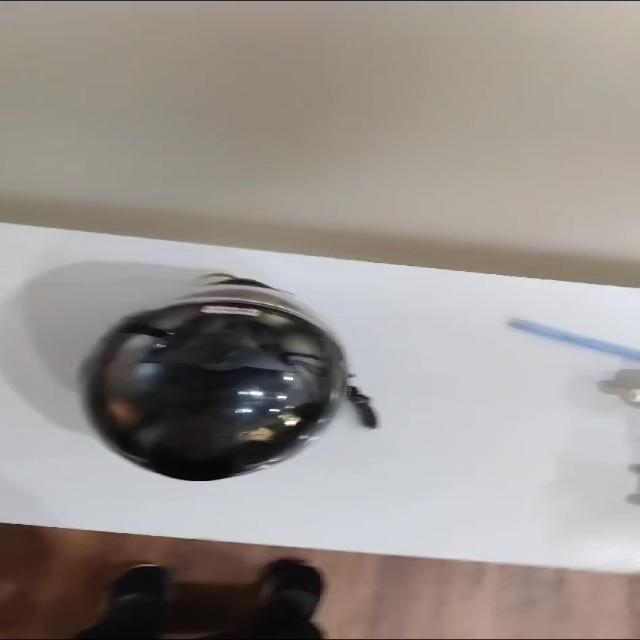helmet: (79, 274, 353, 484)
